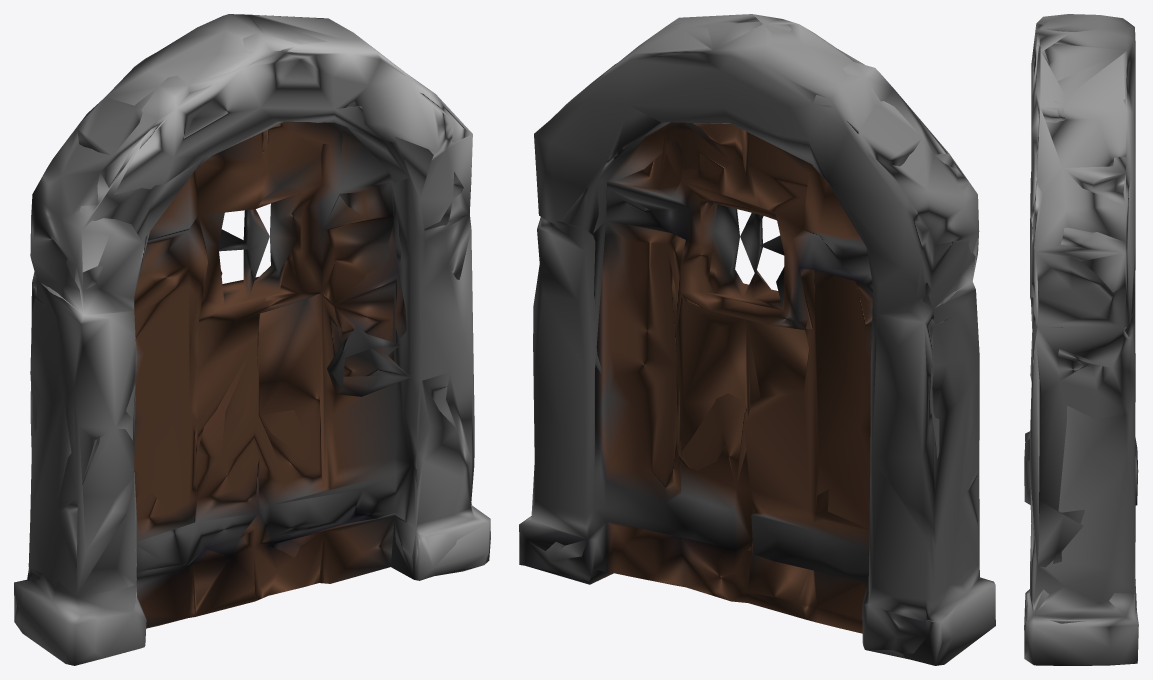
Rendered from gen3d-dungeon-door-lod0.glb.
3 views of the same model, side by side, from view 1: azimuth 30°, elevation 25°; view 2: azimuth 150°, elevation 25°; view 3: azimuth 270°, elevation 25° (orthographic). The views are drawn at different scales.
Parts seen in each view (by area): view 1: part_0; view 2: part_0; view 3: part_0.
Part boxes in pixels (bbox=[...]): part_0: bbox=[14, 14, 490, 665]; part_0: bbox=[519, 14, 995, 665]; part_0: bbox=[1024, 14, 1138, 665].
Bounding box in the file's own units: 0.781 × 1 × 0.1925.
